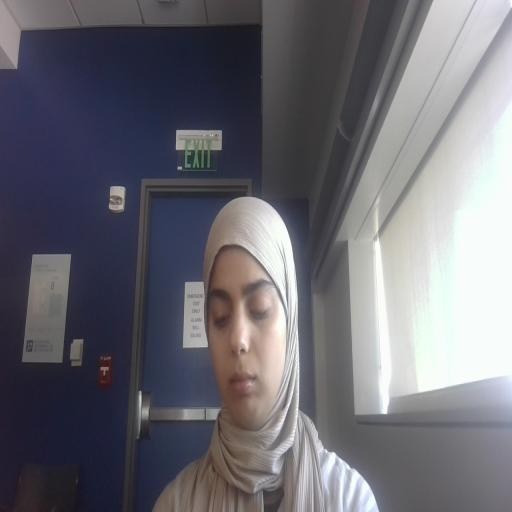lookingdownatphone: (206, 246, 286, 430)
